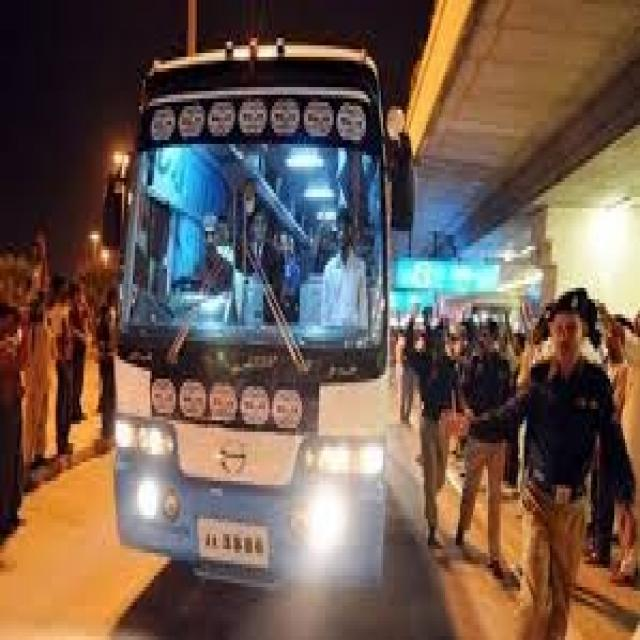bus: (92, 26, 435, 614)
